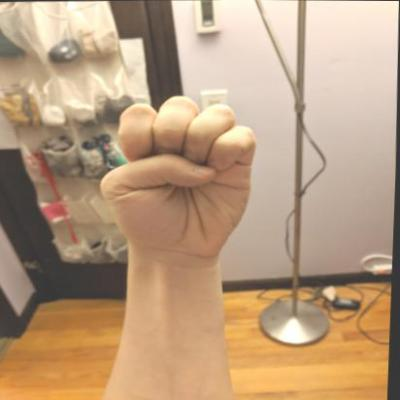hand: (92, 91, 264, 262)
